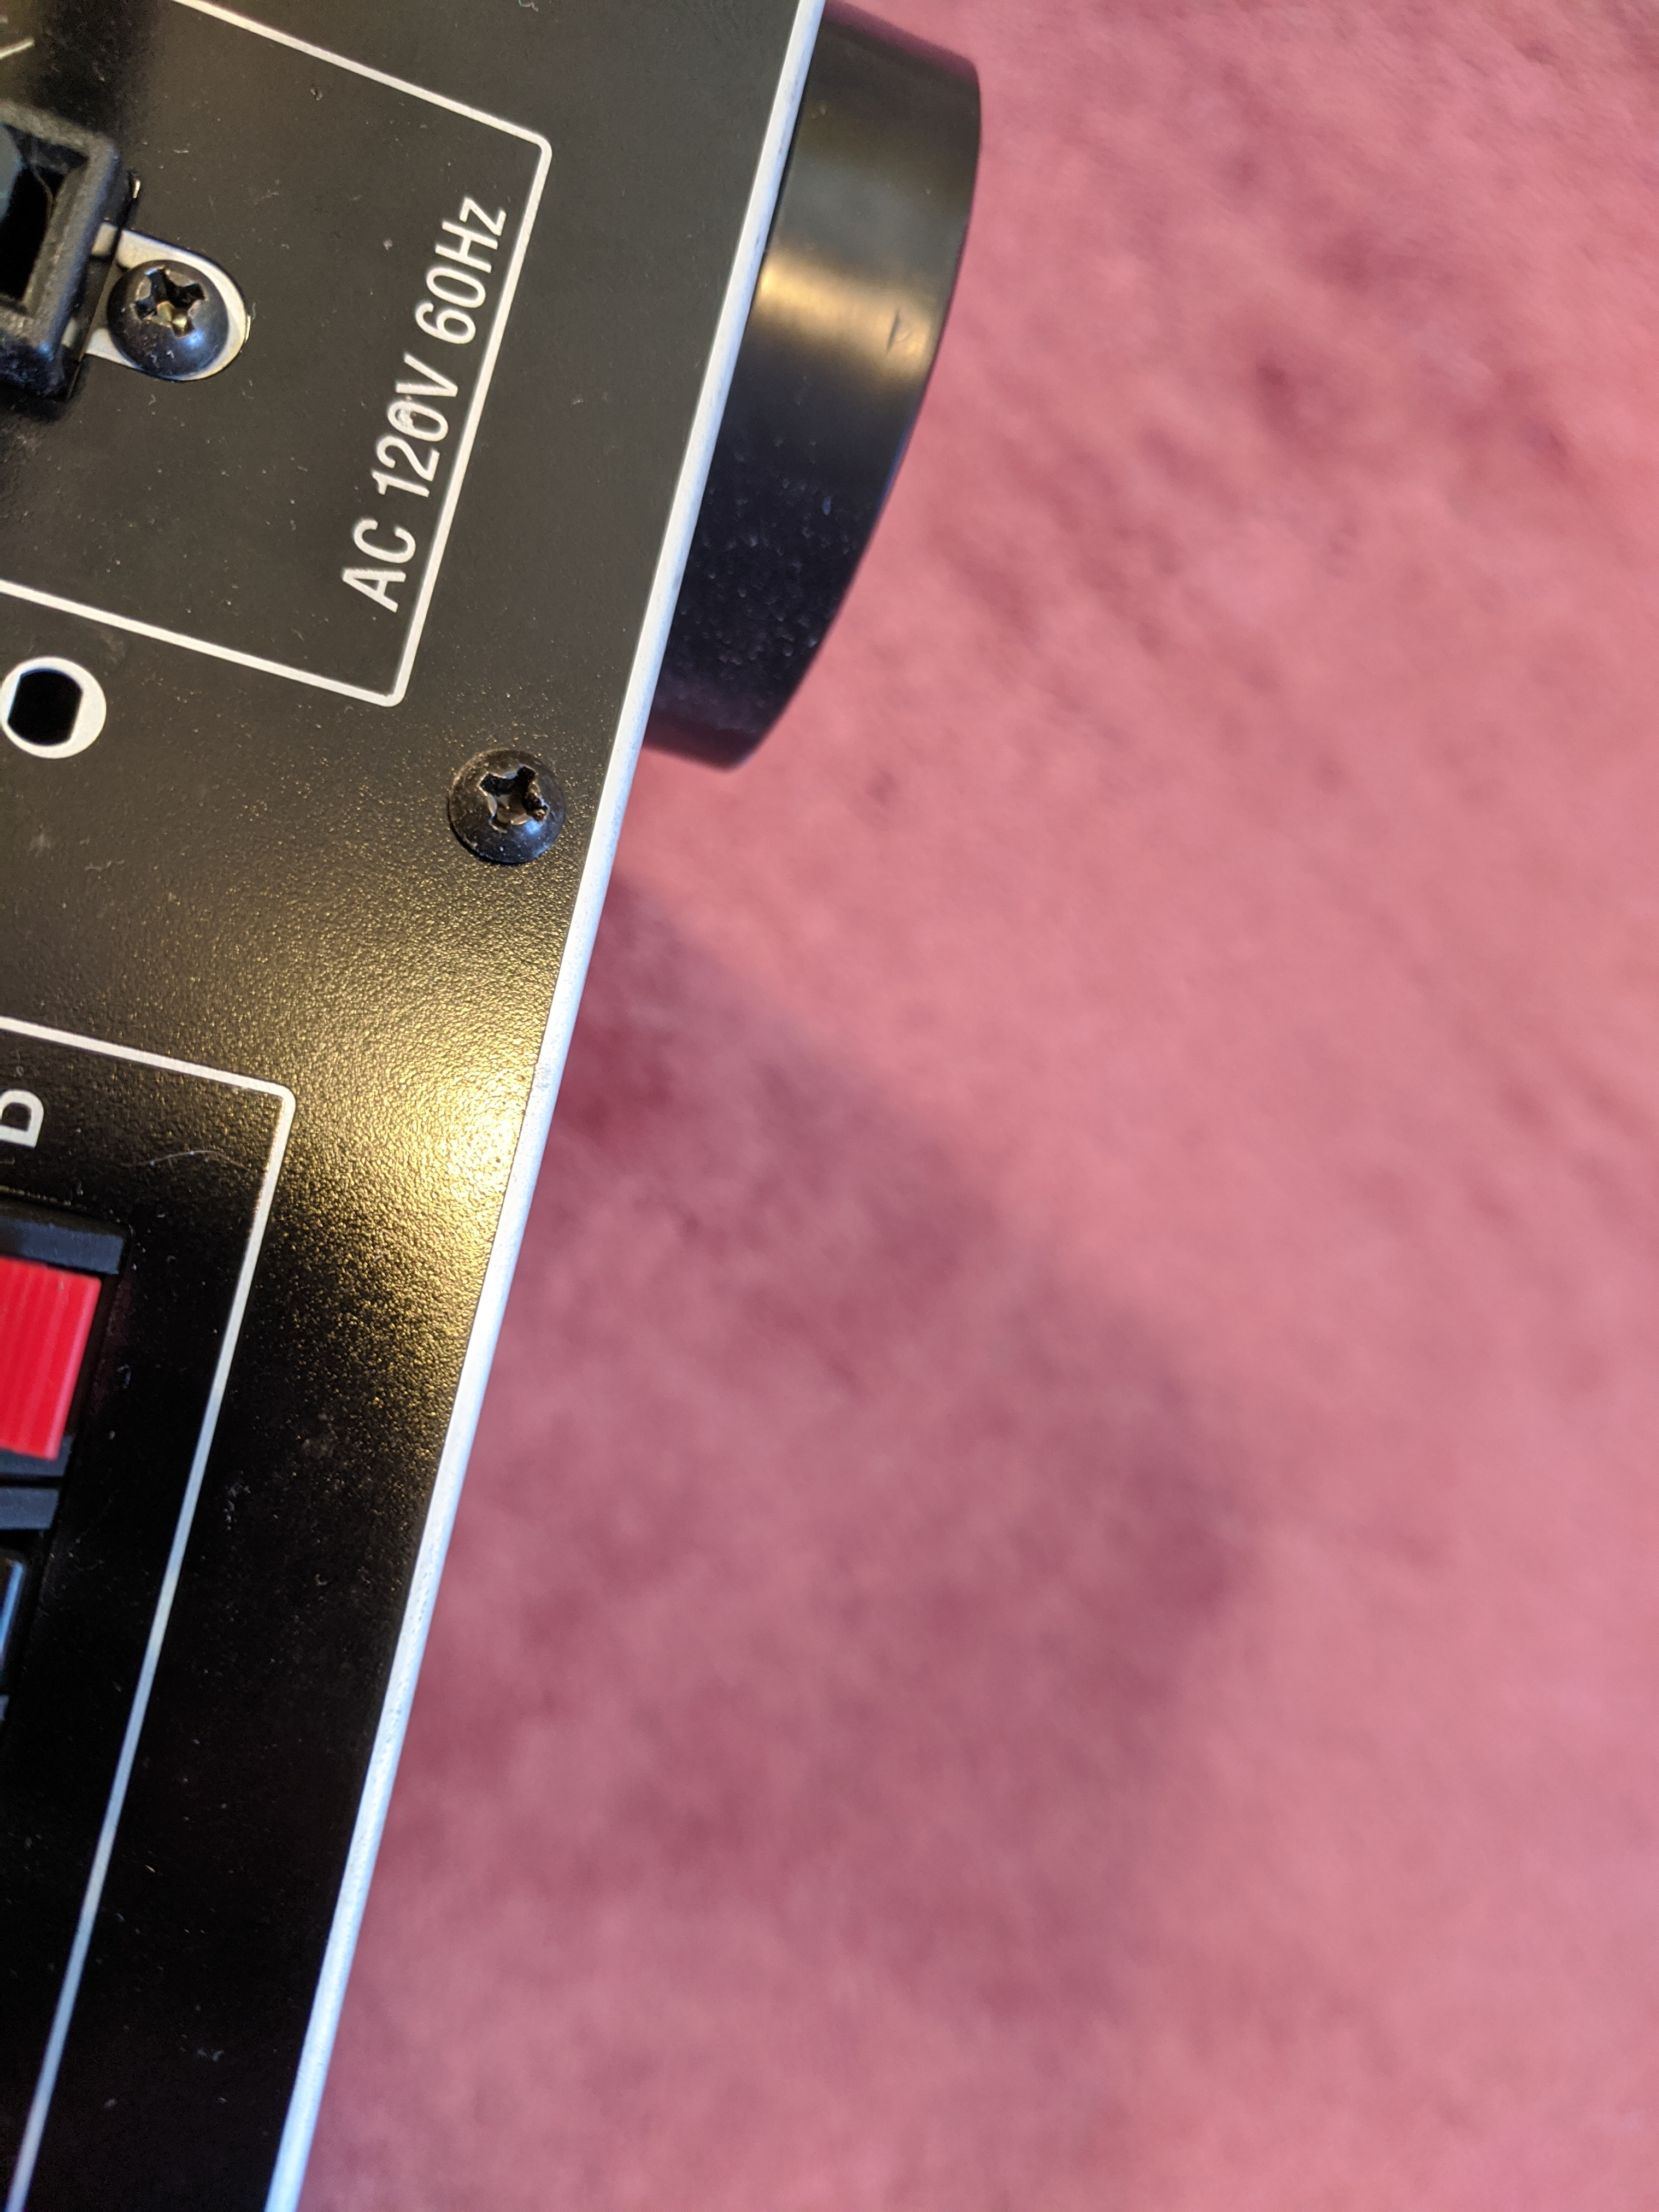cross_recessed_screw: (430, 728, 579, 862), (106, 240, 228, 350)
